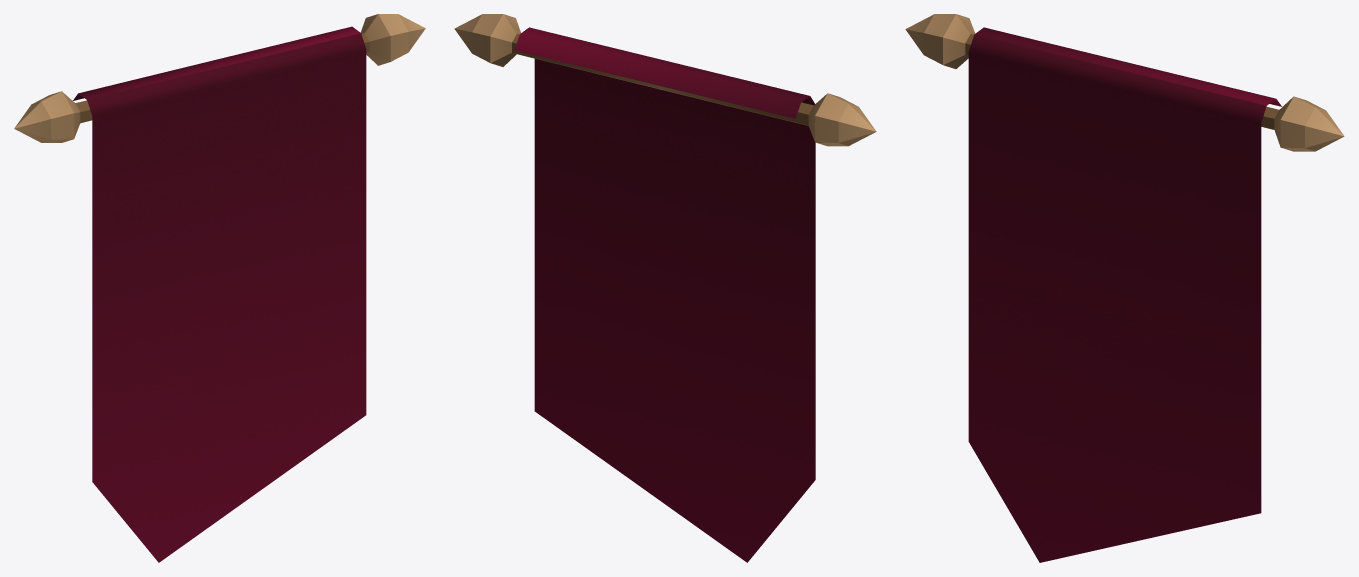
File: SRWallBanner.fbx
3 views of the same model, side by side, from view 1: azimuth 30°, elevation 25°; view 2: azimuth 150°, elevation 25°; view 3: azimuth 330°, elevation 25° (orthographic). The views are drawn at different scales.
Visible parts, largest first — view 1: WallBanner; view 2: WallBanner; view 3: WallBanner.
Part boxes in pixels (bbox=[...]): WallBanner: bbox=[14, 14, 425, 562]; WallBanner: bbox=[454, 14, 876, 562]; WallBanner: bbox=[905, 14, 1344, 562].
Bounding box in the file's own units: 1.34 × 1.51 × 0.1393.
